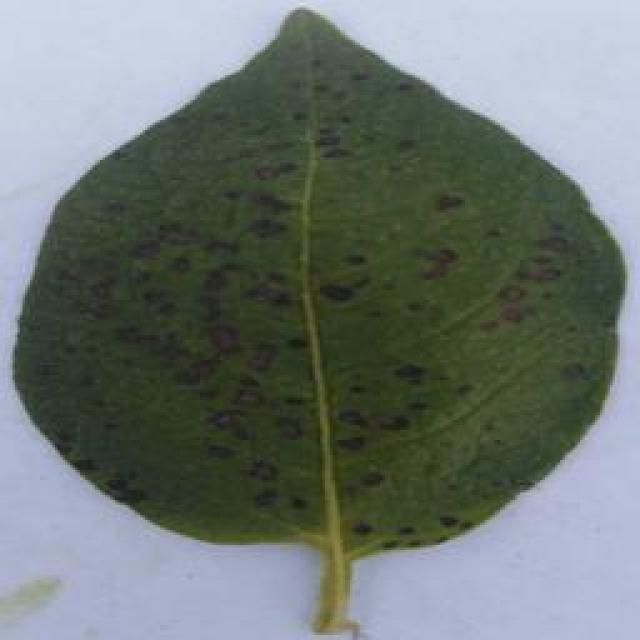Potato_Early_Blight: (18, 8, 617, 544)
